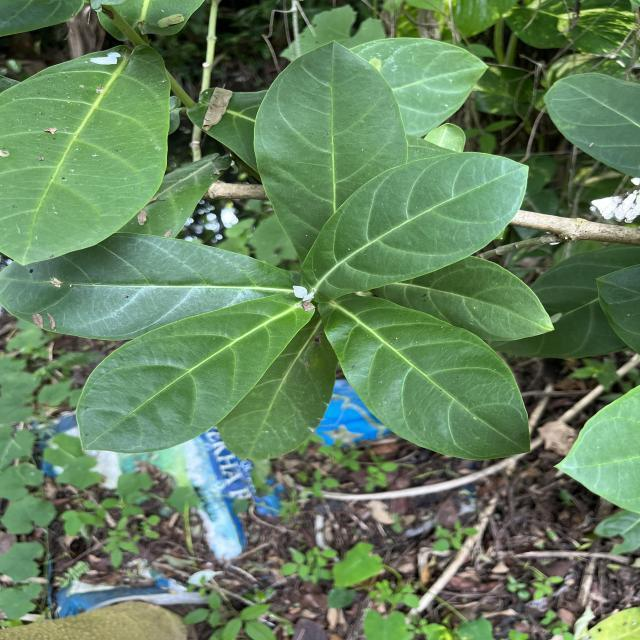Calotropis gigantea: (0, 42, 175, 270), (77, 293, 318, 457), (326, 292, 536, 462), (296, 149, 532, 298), (252, 39, 409, 261), (0, 235, 292, 343), (218, 315, 338, 463)
